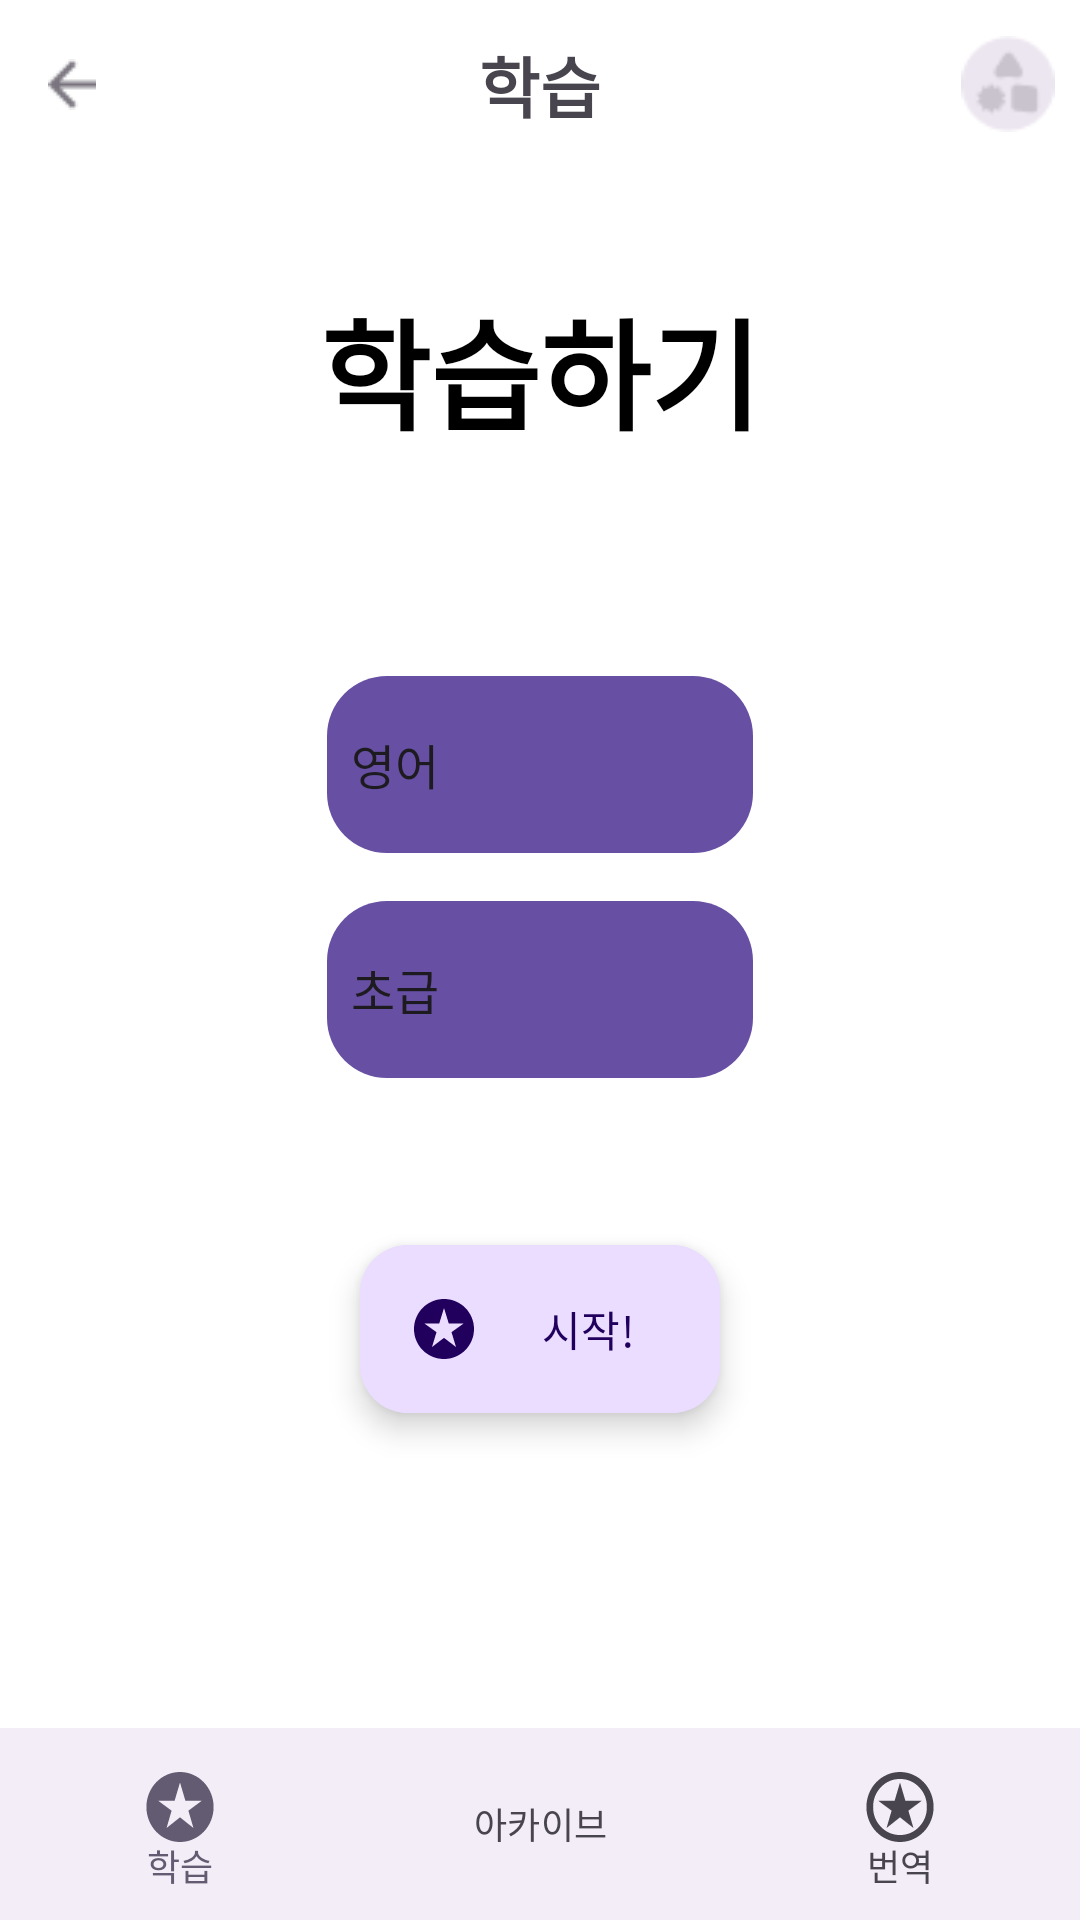

Icons on this 1080x1920 Android screen, each with its box as rect(x1, y1, x2, y2):
뒤로가기: rect(48, 61, 96, 108)
